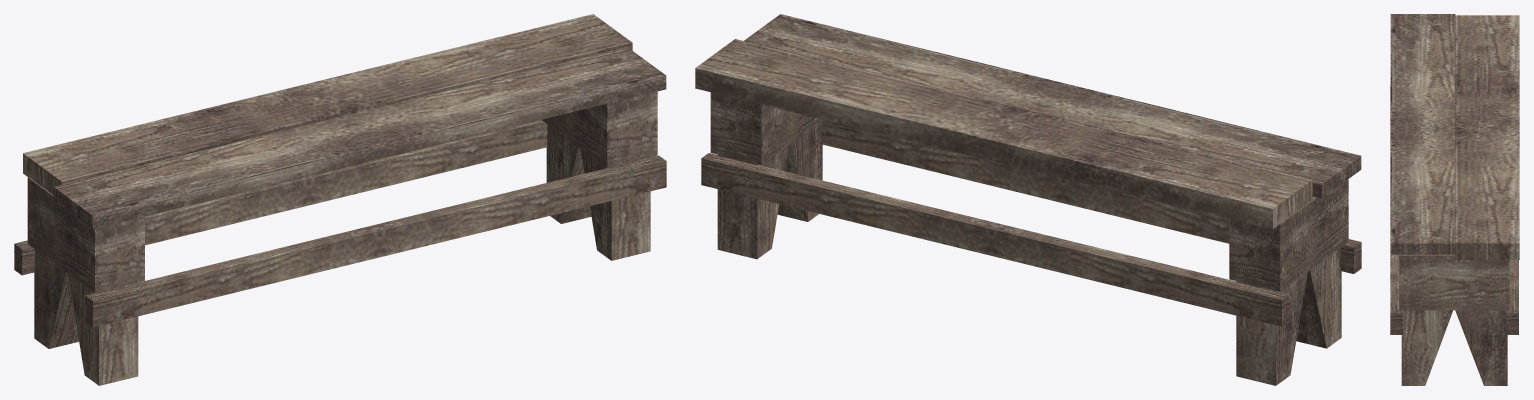
Rendered from Prop_Woodstool2.glb.
3 renders of one model, left to right at view 1: azimuth 30°, elevation 25°; view 2: azimuth 150°, elevation 25°; view 3: azimuth 270°, elevation 25°, orthographic. The views are drawn at different scales.
Visible parts, largest first — view 1: xiutz_woodstool2; view 2: xiutz_woodstool2; view 3: xiutz_woodstool2.
Boxes of the visible parts, <box> form: xiutz_woodstool2: <box>14,14,666,385</box>; xiutz_woodstool2: <box>695,14,1361,385</box>; xiutz_woodstool2: <box>1390,14,1519,385</box>.
Bounding box in the file's own units: 1.97 × 0.5886 × 0.4638.
1 material, 1 textured.
